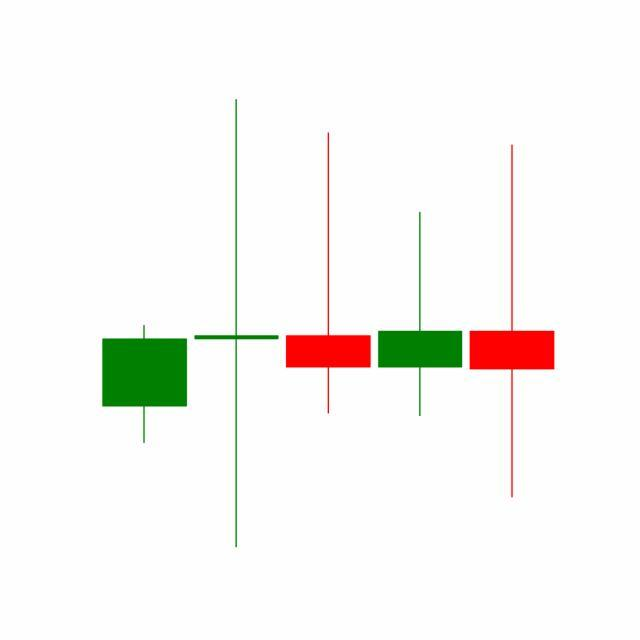Spinning Top: (466, 141, 559, 502)
